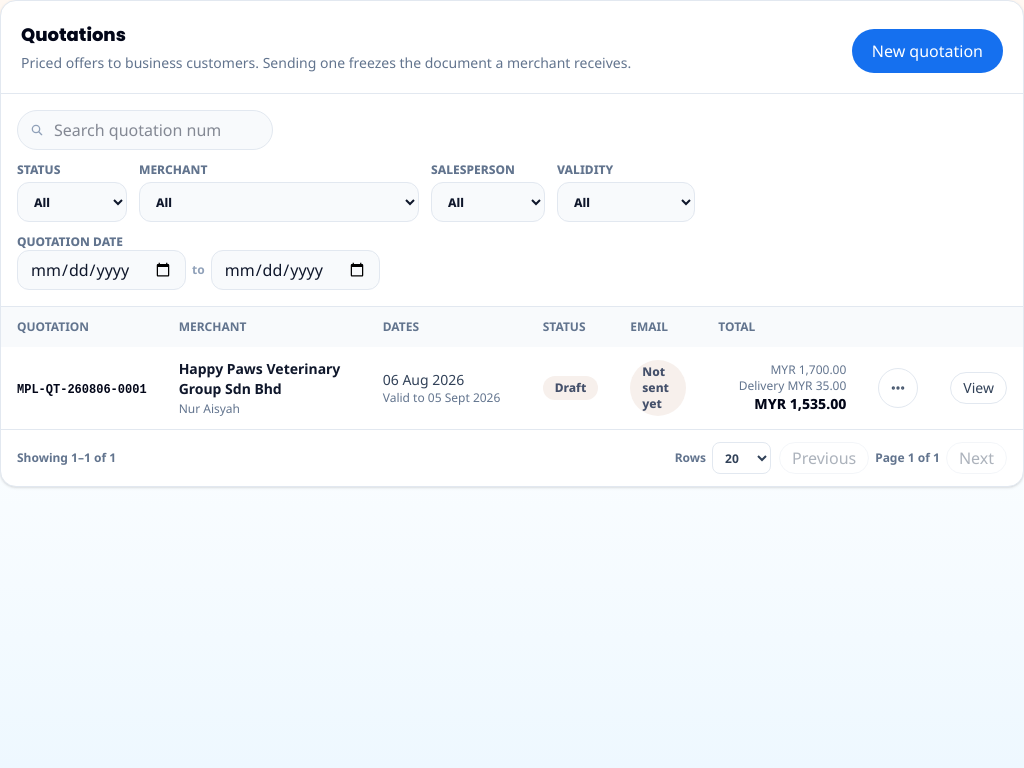
Test: Quotation lifecycle › offers Send on a draft, and nothing that skips ahead
Click the button named "Actions for MPL-QT-260806-0001". click: click(898, 388)
box: [878,368,918,408]
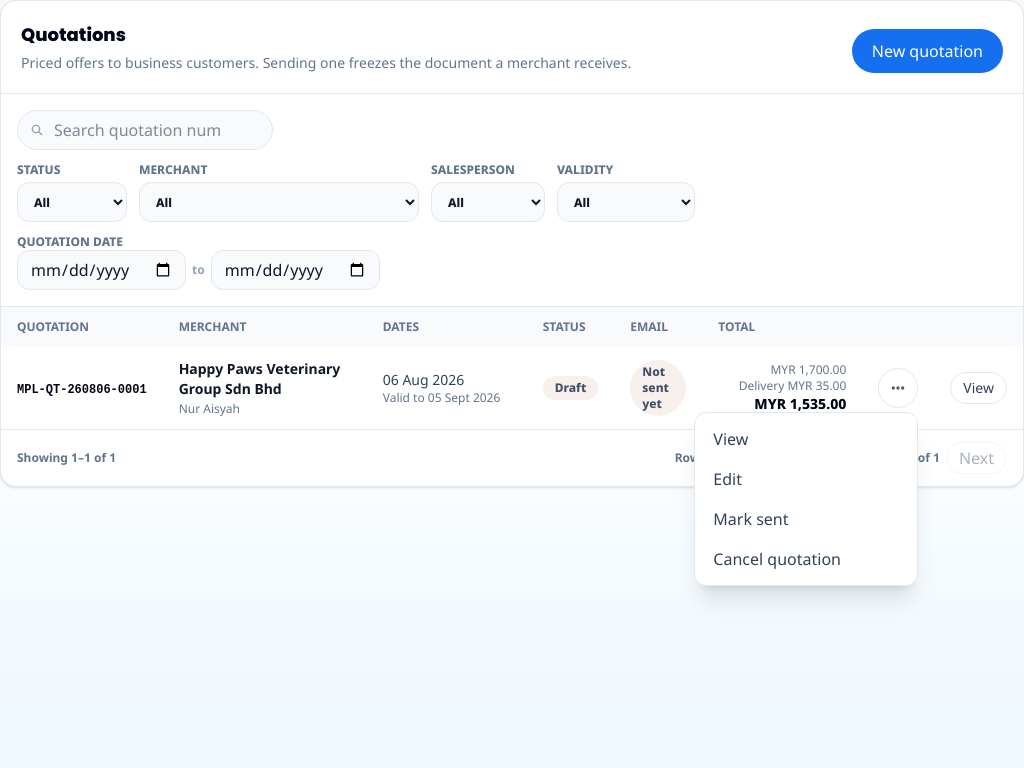
Result: the menu item "Mark sent" is shown at [701,499,911,539]
